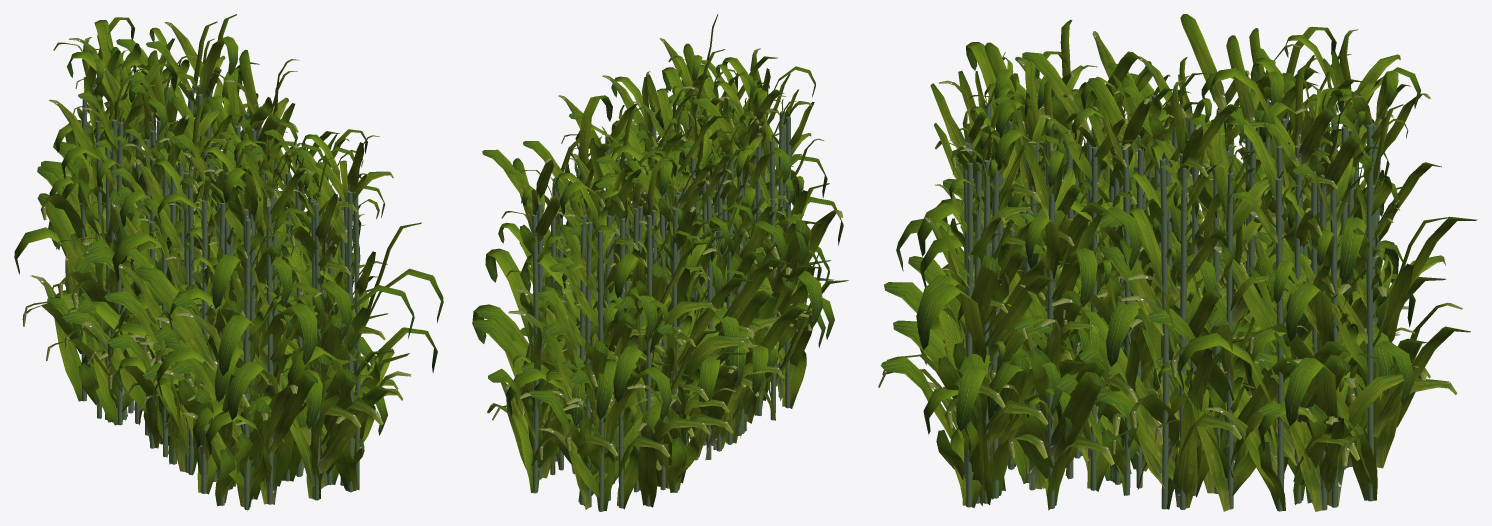
The model's file is milharal4x10_denso2.fbx.
3 renders of one model, left to right at view 1: azimuth 30°, elevation 25°; view 2: azimuth 150°, elevation 25°; view 3: azimuth 270°, elevation 25°, orthographic. The views are drawn at different scales.
Parts seen in each view (by area): view 1: Plantacao2; view 2: Plantacao2; view 3: Plantacao2.
Part boxes in pixels (<box>): Plantacao2: <box>14,14,443,510</box>; Plantacao2: <box>472,14,848,511</box>; Plantacao2: <box>878,14,1477,511</box>.
Bounding box in the file's own units: 857 × 1106 × 1401.
